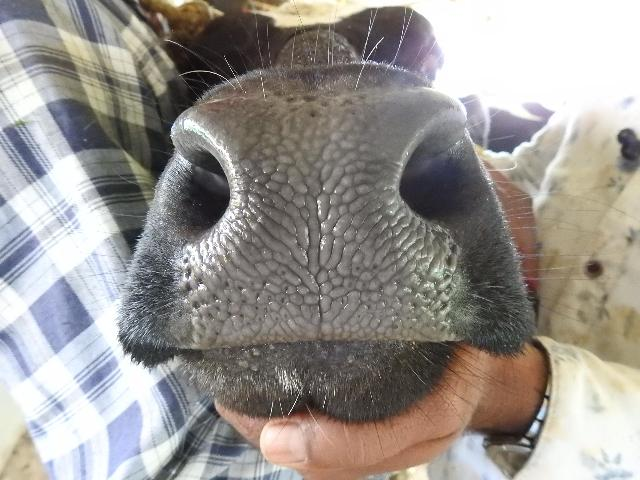Muzzle: (202, 96, 436, 342)
